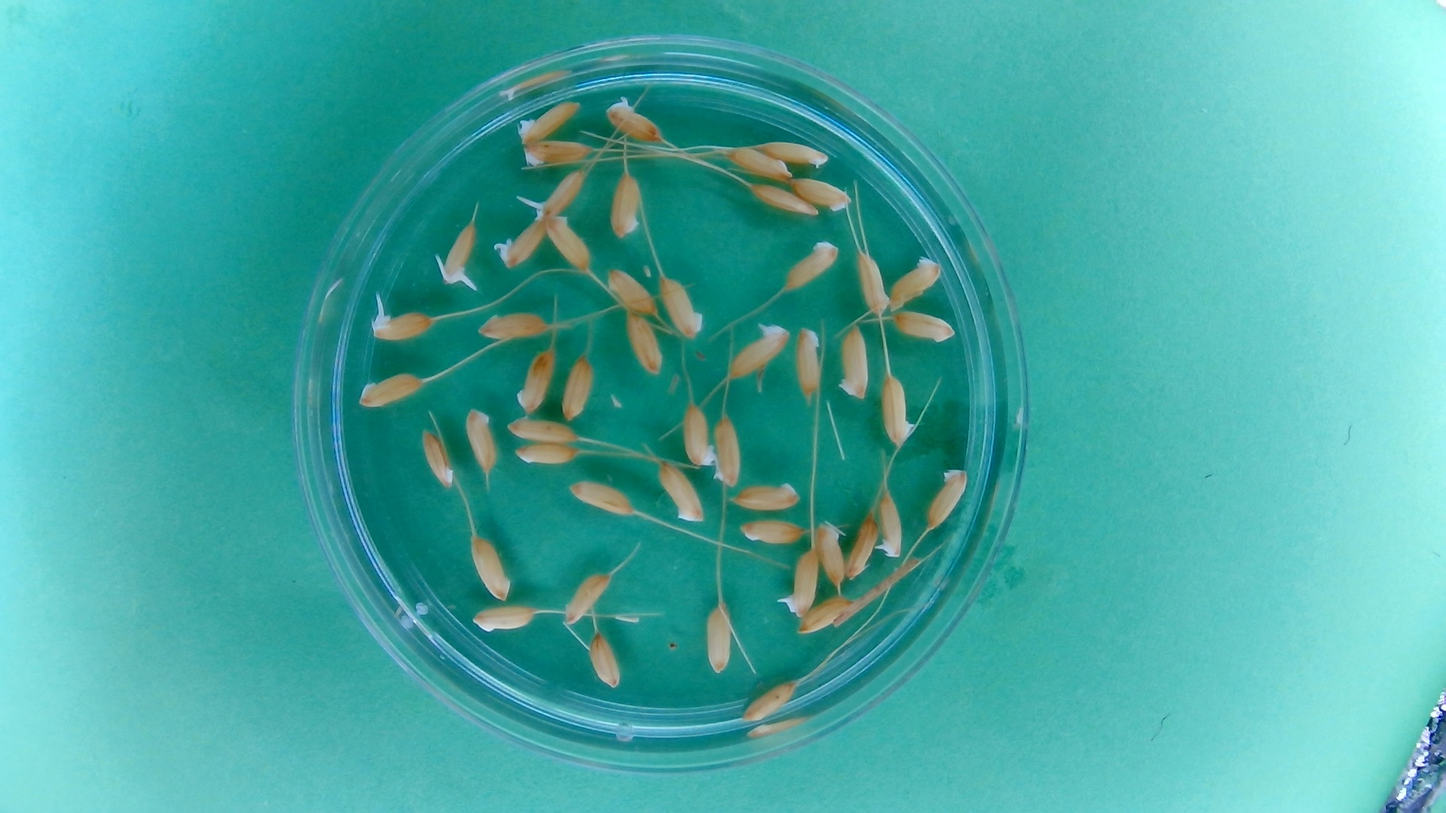no: (657, 272, 706, 341), (887, 253, 944, 312), (781, 238, 841, 294), (655, 458, 705, 524), (923, 465, 970, 534), (514, 96, 582, 143), (468, 532, 513, 602), (879, 371, 919, 449), (544, 212, 593, 273), (514, 346, 557, 415), (560, 569, 612, 626), (835, 321, 872, 401), (566, 477, 636, 518), (604, 264, 658, 316), (723, 144, 792, 184), (623, 309, 664, 376), (746, 180, 818, 218), (355, 371, 425, 410), (739, 677, 798, 723), (792, 321, 825, 401), (797, 592, 856, 636), (729, 477, 803, 512), (853, 248, 891, 316), (789, 175, 853, 215), (608, 169, 644, 240), (462, 405, 499, 474), (711, 410, 743, 489), (844, 512, 880, 582), (560, 352, 596, 422), (813, 518, 848, 589), (889, 309, 957, 345), (755, 137, 831, 169), (681, 400, 716, 469), (474, 309, 549, 341), (519, 138, 593, 170), (419, 426, 456, 490), (703, 602, 734, 674), (587, 629, 623, 689), (737, 517, 804, 546), (471, 604, 538, 632), (512, 440, 579, 466)
yes: (724, 321, 790, 380), (604, 95, 667, 145), (532, 168, 588, 221), (496, 212, 548, 269), (437, 219, 479, 288), (778, 548, 819, 617), (368, 306, 435, 341), (874, 488, 905, 559)
